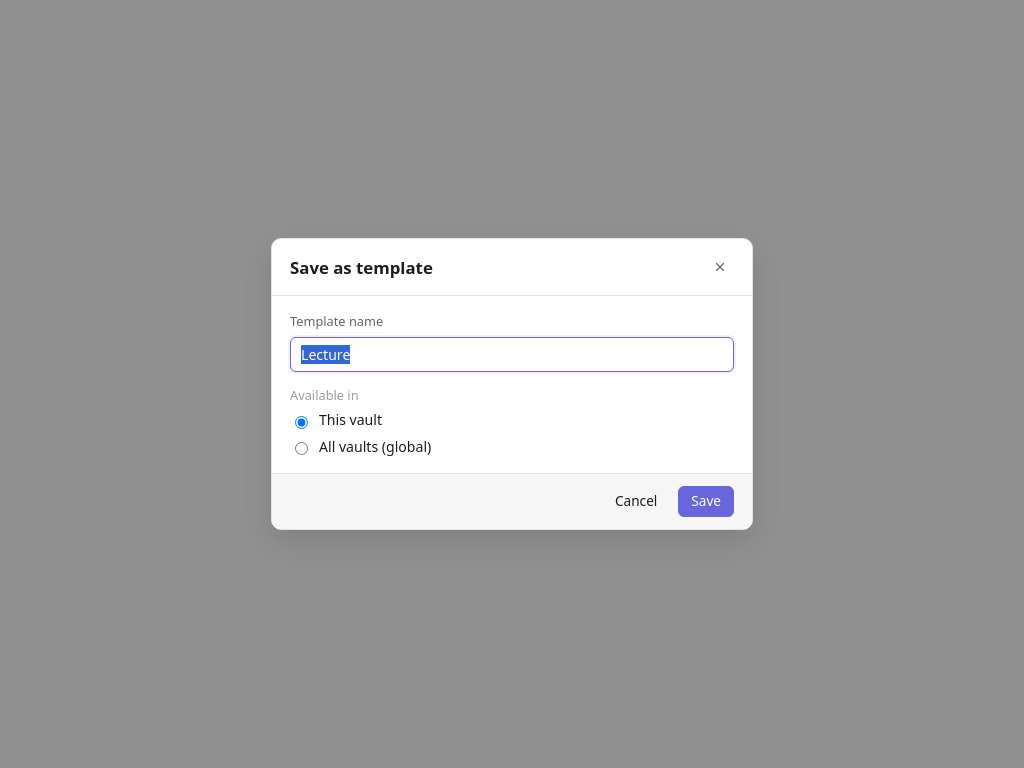
Scenario: SaveTemplateModal › shows validation and save errors
Step 1. Replace the text in the field labelled "Template name" with "a/b" → {"x": 512, "y": 354}, box [290,337,734,372]
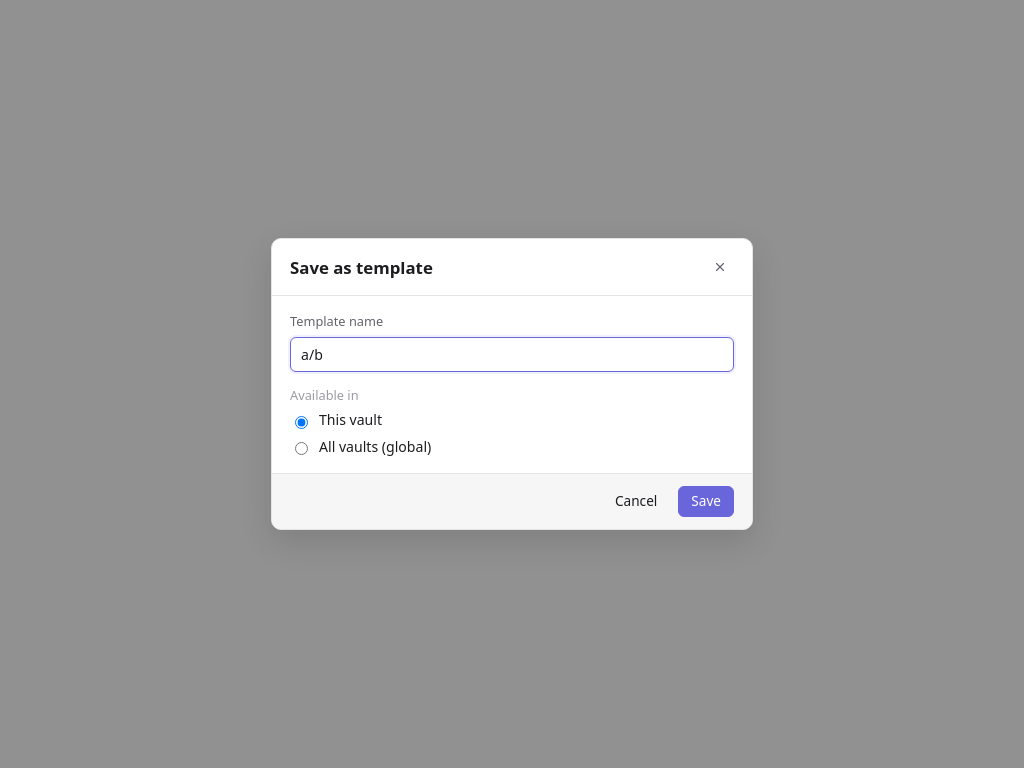
Step 2. Submit the form labelled "Template name", box [272,239,752,529]
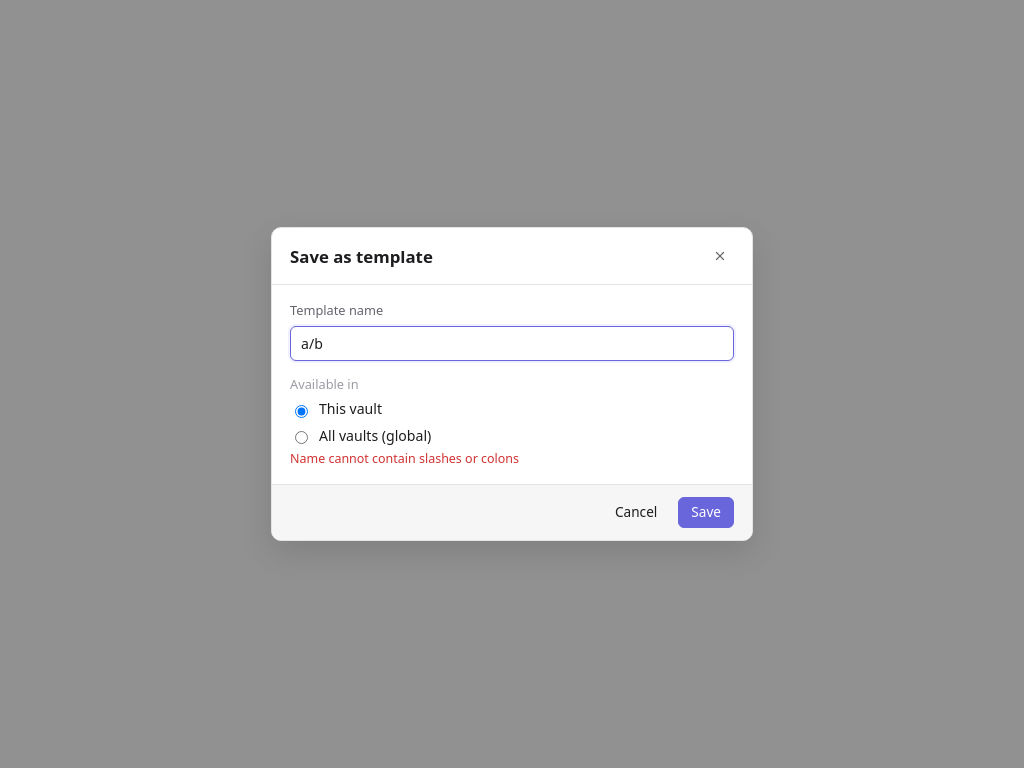
Result: the text "Name cannot contain slashes or colons" is shown at [290,450,519,467]
Step 3. Replace the text in the field labelled "Template name" with "ok" → {"x": 512, "y": 343}, box [290,326,734,361]
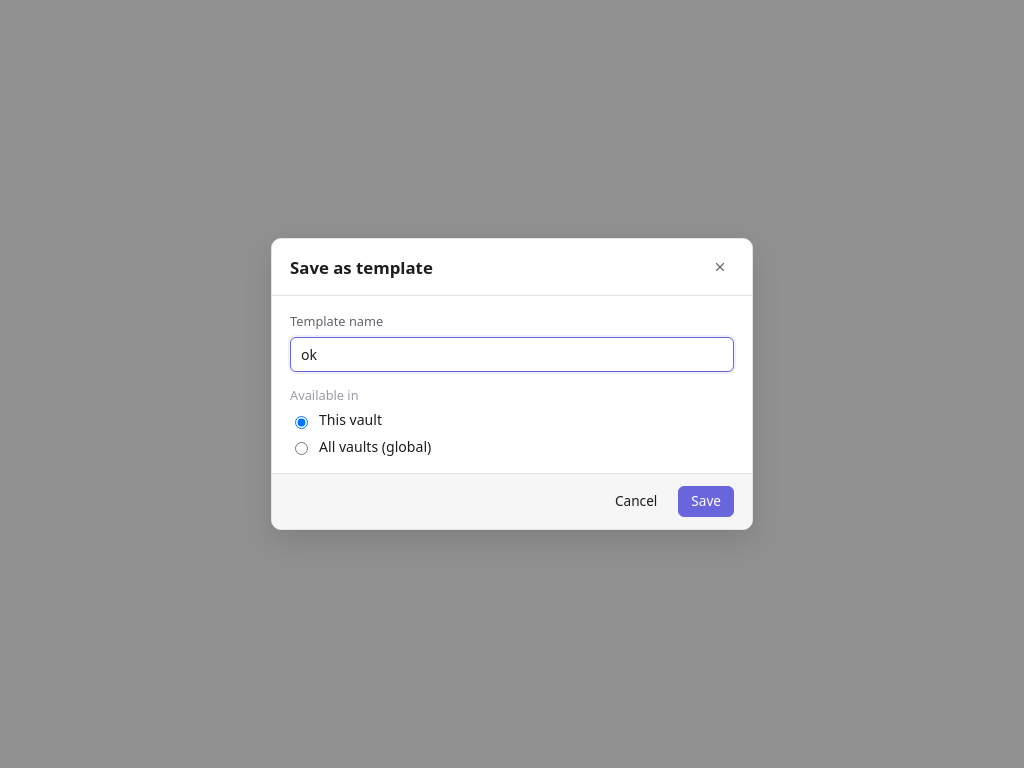
Step 4. Submit the form labelled "Template name", box [272,239,752,529]
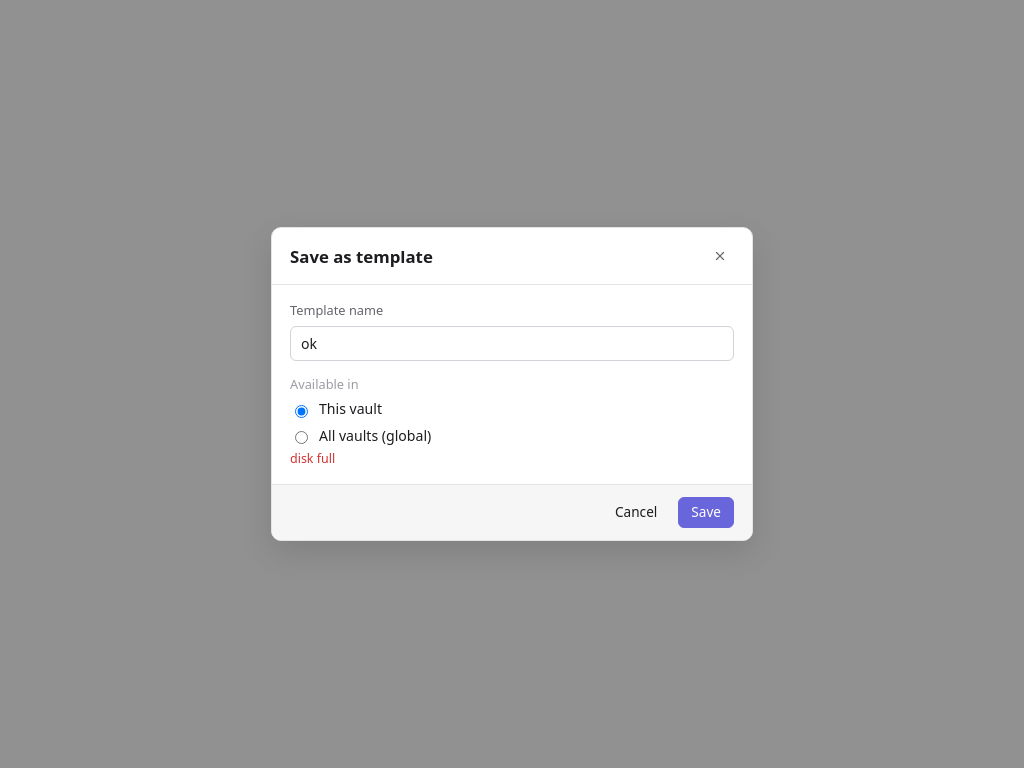
Result: the text "disk full" is shown at [290,450,335,467]
